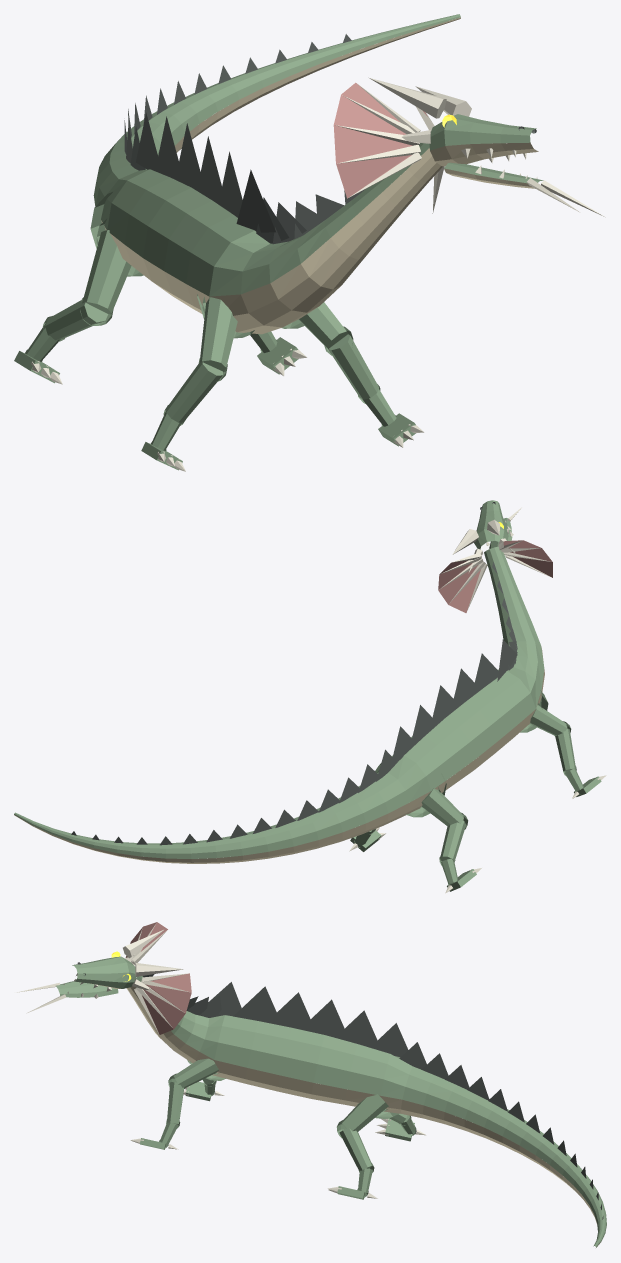
File: EasternDragon_godot.glb
The picture shows the model from 3 angles, top to bottom: view 1: azimuth 30°, elevation 25°; view 2: azimuth 150°, elevation 25°; view 3: azimuth 270°, elevation 25°; orthographic projection. The views are drawn at different scales.
Parts seen in each view (by area): view 1: eastern-dragon-flying; view 2: eastern-dragon-flying; view 3: eastern-dragon-flying.
Boxes of the visible parts, left/top/right/bottom form: eastern-dragon-flying: left=14, top=14, right=605, bottom=471; eastern-dragon-flying: left=14, top=500, right=606, bottom=893; eastern-dragon-flying: left=16, top=922, right=606, bottom=1247.
Size of the model in its own units: 4.96 by 3.12 by 6.63.
